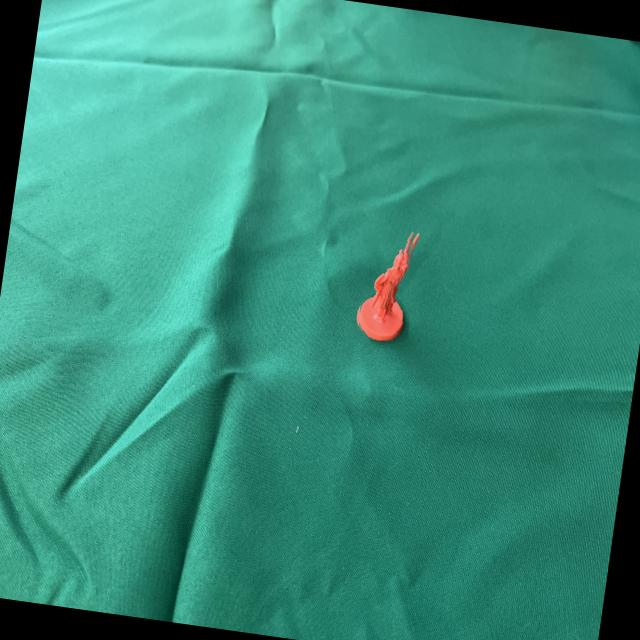amon_follower: (360, 232, 415, 341)
